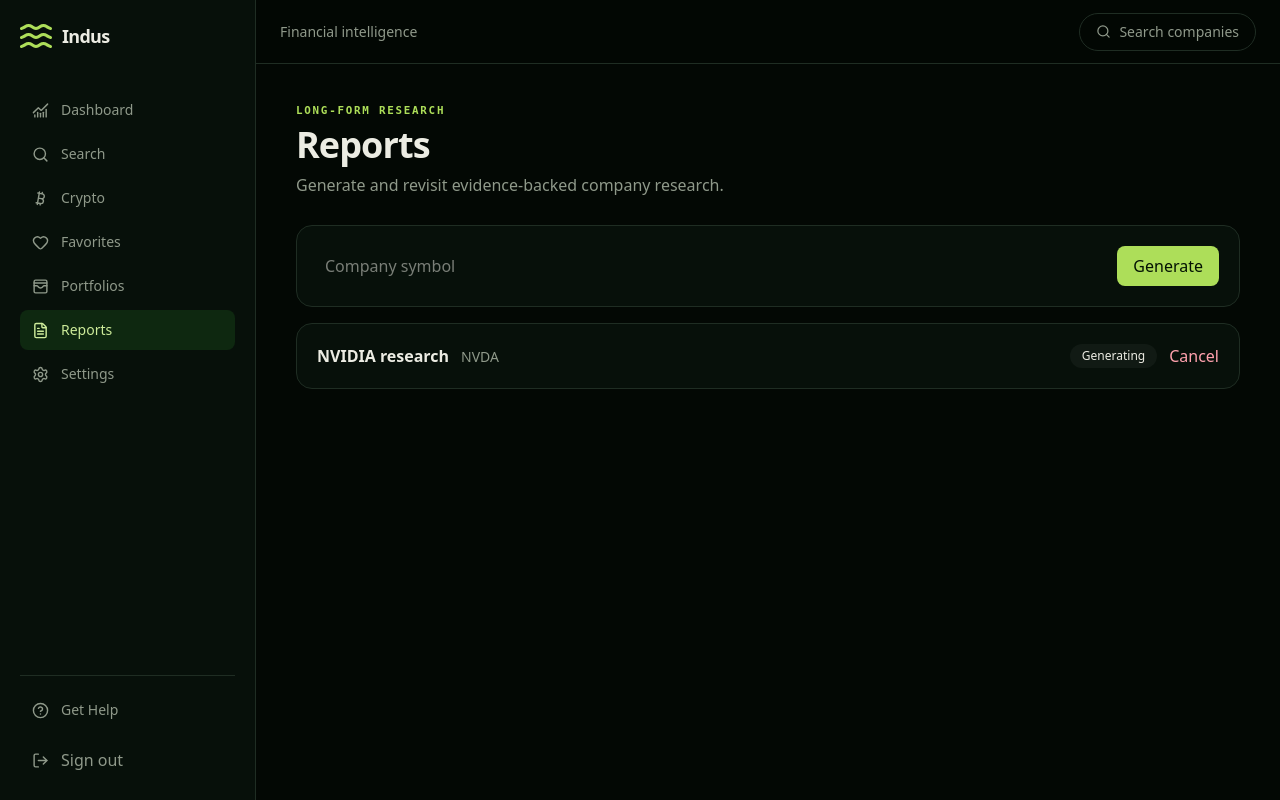
application routing › keeps an active report visible when cancellation fails without exposing provider details
What coordinates should you click on to do the following:
click the button "Cancel"
I would click on:
 (1194, 356)
Its box is x1=1169 y1=344 x2=1219 y2=368.
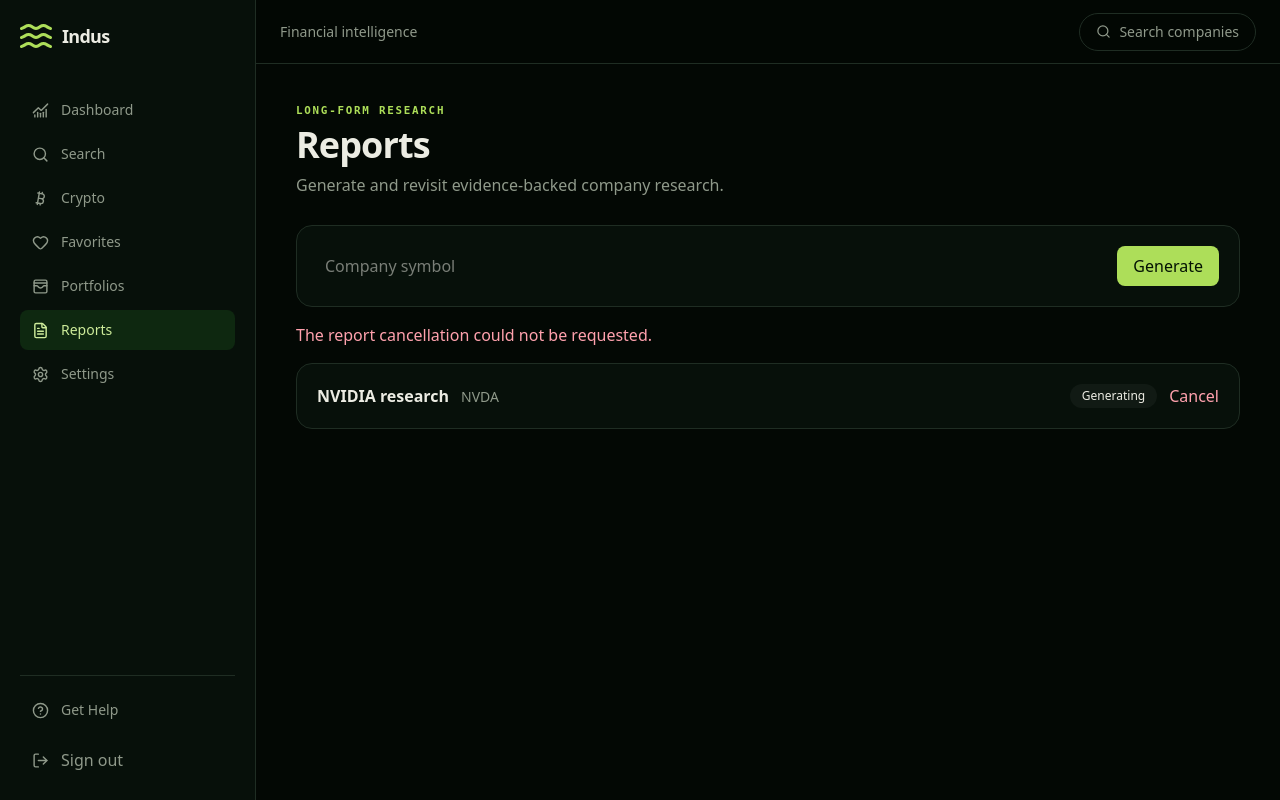
Expected: the text "generating" is shown, x1=1070 y1=384 x2=1157 y2=408
Result: the message reads "The report cancellation could not be requested." at x1=296 y1=324 x2=652 y2=346
